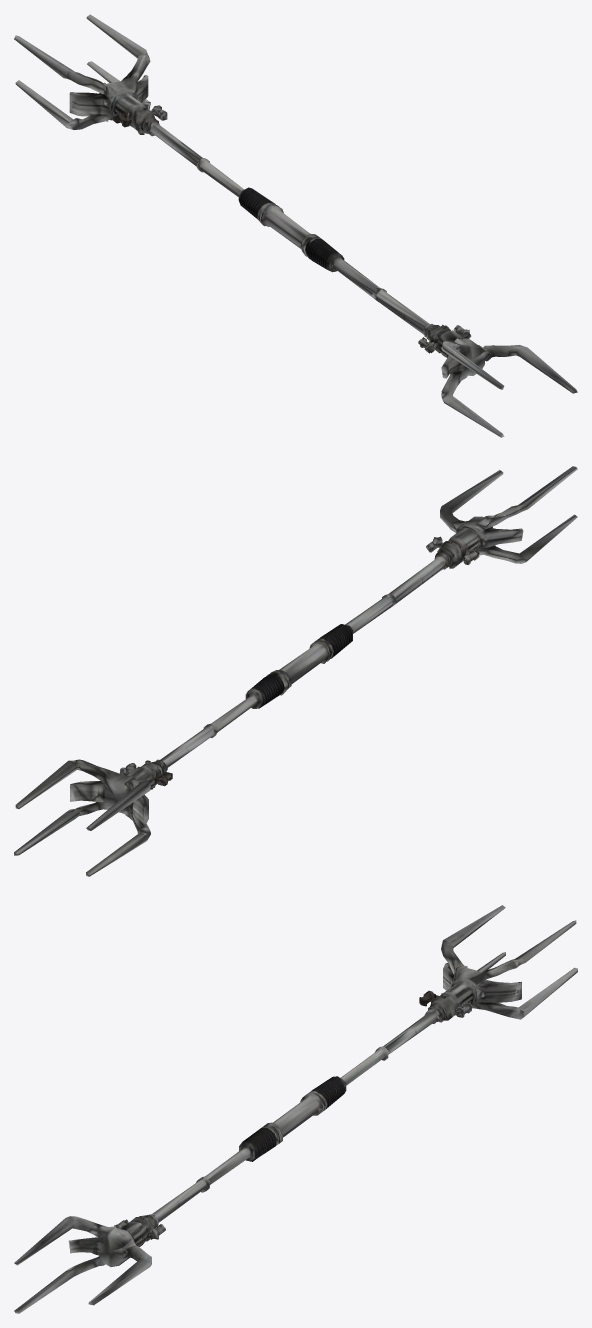
Rendered from electrostaff.glb.
3 views of the same model, one above another, from view 1: azimuth 30°, elevation 25°; view 2: azimuth 150°, elevation 25°; view 3: azimuth 330°, elevation 25° (orthographic).
Parts seen in each view (by area): view 1: electrostaff; view 2: electrostaff; view 3: electrostaff.
Boxes of the visible parts, x1=… form: electrostaff: x1=14, y1=14, x2=577, y2=437; electrostaff: x1=14, y1=466, x2=577, y2=876; electrostaff: x1=14, y1=905, x2=577, y2=1313.
Bounding box in the file's own units: 0.103 × 0.0664 × 0.9766.
1 material, 1 textured.
